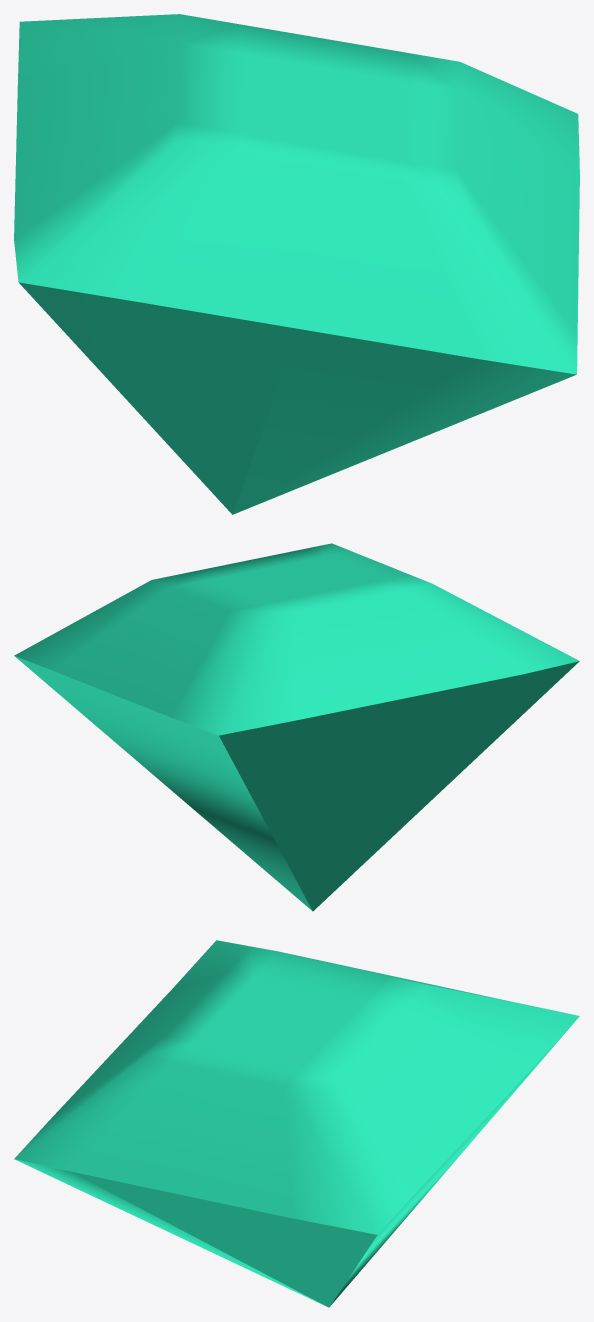
Rendered from Gem.fbx.
The picture shows the model from 3 angles, top to bottom: view 1: azimuth 30°, elevation 25°; view 2: azimuth 150°, elevation 25°; view 3: azimuth 270°, elevation 25°; orthographic projection. The views are drawn at different scales.
Parts seen in each view (by area): view 1: pPyramid1; view 2: pPyramid1; view 3: pPyramid1.
Part boxes in pixels (x1=…): pPyramid1: x1=14, y1=14, x2=579, y2=514; pPyramid1: x1=14, y1=543, x2=579, y2=911; pPyramid1: x1=14, y1=940, x2=579, y2=1307.
Size of the model in its own units: 4.74 by 3.03 by 4.74.
